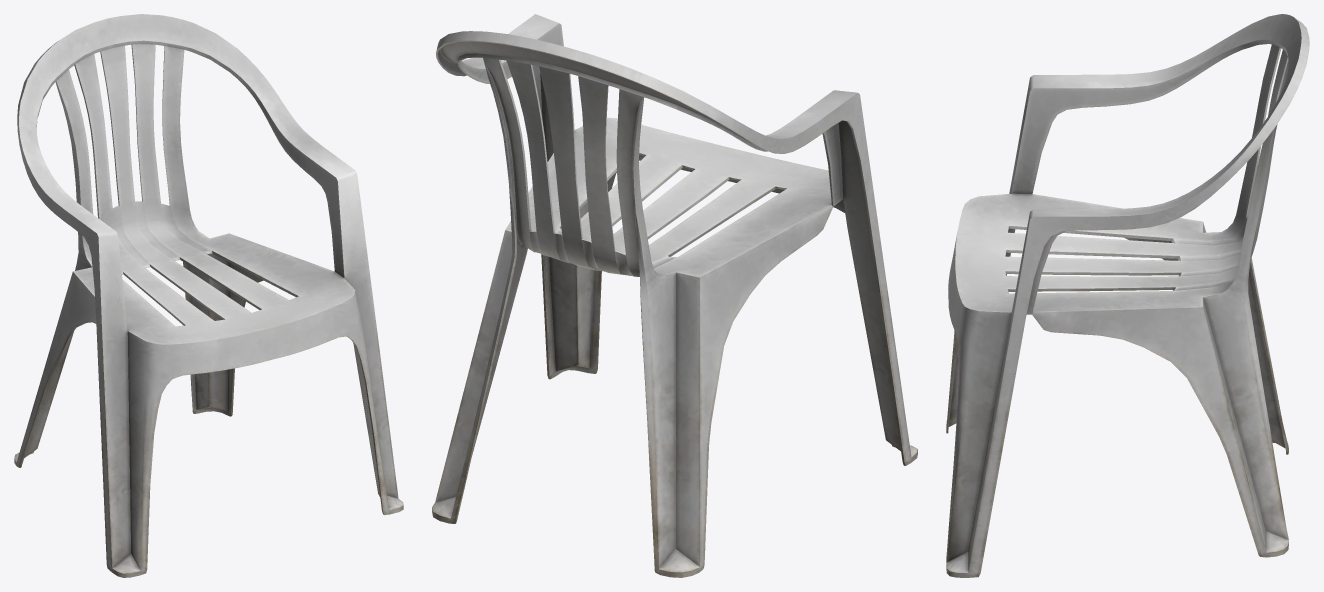
Rendered from beach-chair-0-near.glb.
The picture shows the model from 3 angles, left to right: view 1: azimuth 30°, elevation 25°; view 2: azimuth 150°, elevation 25°; view 3: azimuth 270°, elevation 25°; orthographic projection. The views are drawn at different scales.
Visible parts, largest first — view 1: plastic_monobloc_chair_01; view 2: plastic_monobloc_chair_01; view 3: plastic_monobloc_chair_01.
Boxes of the visible parts, x1,y1,x2,y2 form: plastic_monobloc_chair_01: (14, 14, 403, 577); plastic_monobloc_chair_01: (432, 14, 917, 577); plastic_monobloc_chair_01: (946, 14, 1309, 577).
Bounding box in the file's own units: 0.72 × 0.987 × 0.704.
Materials: 1 (1 with a texture image).
